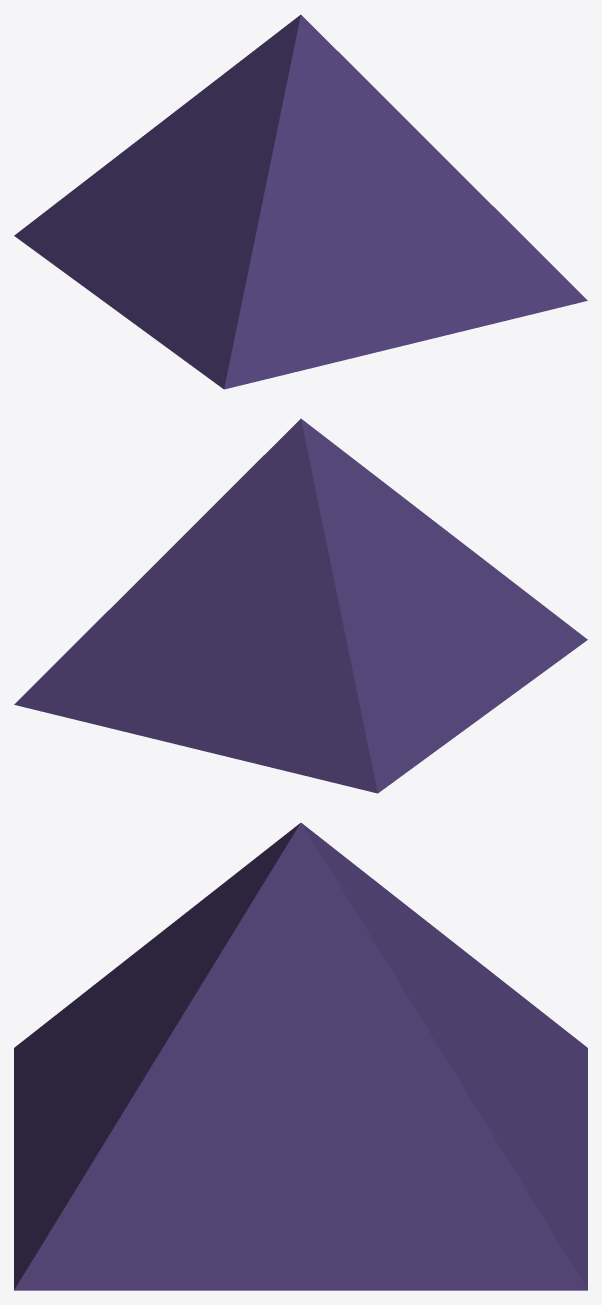
File: KidsBoxG.FBX
3 renders of one model, top to bottom at view 1: azimuth 30°, elevation 25°; view 2: azimuth 150°, elevation 25°; view 3: azimuth 270°, elevation 25°, orthographic. The views are drawn at different scales.
Visible parts, largest first — view 1: KidsBoxG; view 2: KidsBoxG; view 3: KidsBoxG.
Boxes of the visible parts, x1,y1,x2,y2 form: KidsBoxG: (14,14,587,389); KidsBoxG: (14,418,587,793); KidsBoxG: (14,823,587,1290).
Bounding box in the file's own units: 15 × 10 × 15.
